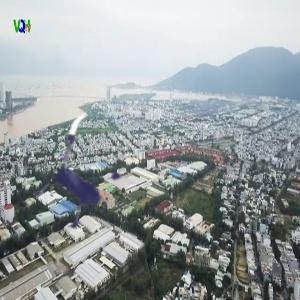drone: (21, 112, 157, 248)
